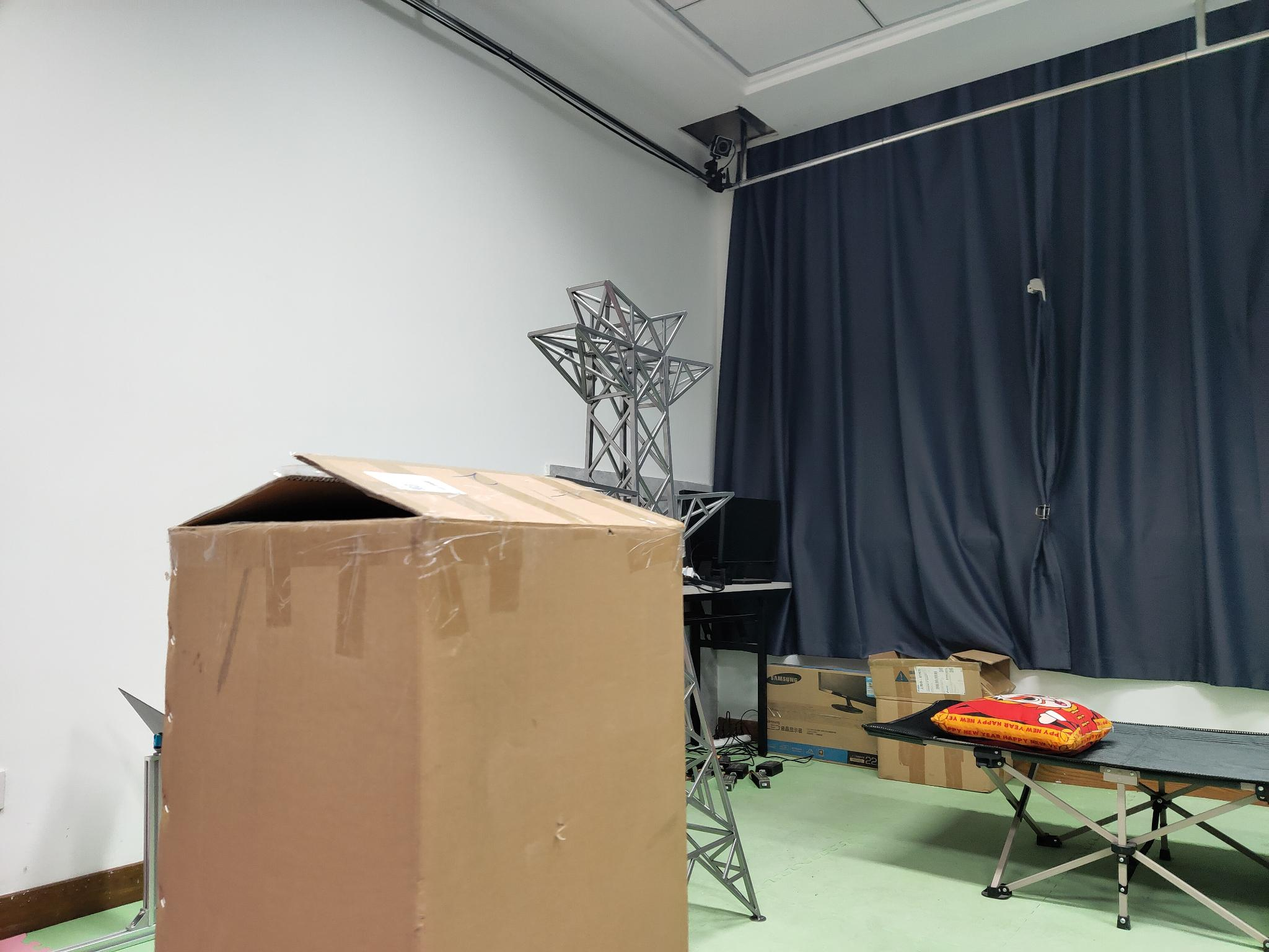tower: (523, 279, 741, 506)
